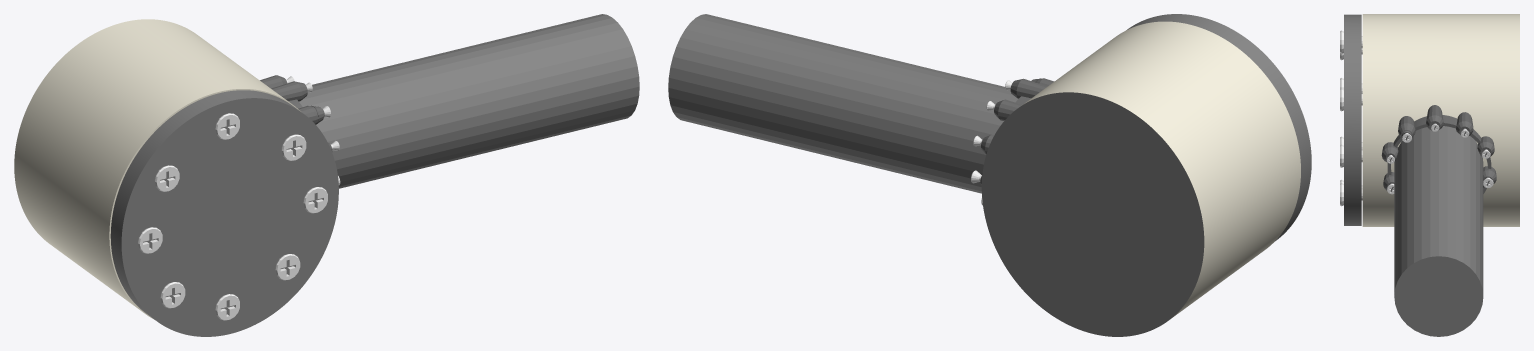
File: drum_arm.glb
3 renders of one model, left to right at view 1: azimuth 30°, elevation 25°; view 2: azimuth 150°, elevation 25°; view 3: azimuth 270°, elevation 25°, orthographic. The views are drawn at different scales.
Parts seen in each view (by area): view 1: Cylinder_005-mesh, Cylinder_023-mesh, Cylinder_004-mesh, Cylinder_014-mesh, Cylinder_012-mesh, Cylinder_007-mesh, Cylinder_009-mesh, Cylinder_011-mesh, Cylinder_010-mesh, Cylinder_006-mesh, Cylinder_013-mesh, Cylinder_008-mesh; view 2: Cylinder_004-mesh_1, Cylinder_023-mesh, Cylinder_004-mesh, Cylinder_005-mesh, Cylinder_014-mesh; view 3: Cylinder_004-mesh, Cylinder_023-mesh, Cylinder_005-mesh, Cylinder_014-mesh.
Part boxes in pixels (box(x1,y1,x2,y2)): Cylinder_005-mesh: box(110, 90, 338, 336); Cylinder_023-mesh: box(299, 14, 639, 188); Cylinder_004-mesh: box(14, 19, 300, 319); Cylinder_014-mesh: box(260, 75, 332, 151); Cylinder_012-mesh: box(154, 165, 179, 191); Cylinder_007-mesh: box(281, 134, 306, 160); Cylinder_009-mesh: box(275, 254, 300, 280); Cylinder_011-mesh: box(138, 227, 162, 253); Cylinder_010-mesh: box(160, 282, 185, 308); Cylinder_006-mesh: box(215, 113, 239, 139); Cylinder_013-mesh: box(215, 294, 239, 320); Cylinder_008-mesh: box(303, 187, 327, 213); Cylinder_004-mesh_1: box(981, 92, 1204, 336); Cylinder_023-mesh: box(668, 14, 1018, 193); Cylinder_004-mesh: box(1021, 21, 1300, 318); Cylinder_005-mesh: box(1127, 14, 1311, 240); Cylinder_014-mesh: box(980, 78, 1054, 184); Cylinder_004-mesh: box(1362, 14, 1519, 226); Cylinder_023-mesh: box(1394, 126, 1483, 336); Cylinder_005-mesh: box(1344, 14, 1361, 225); Cylinder_014-mesh: box(1381, 105, 1496, 193).
Bounding box in the file's own units: 0.5486 × 0.2239 × 0.1883.
